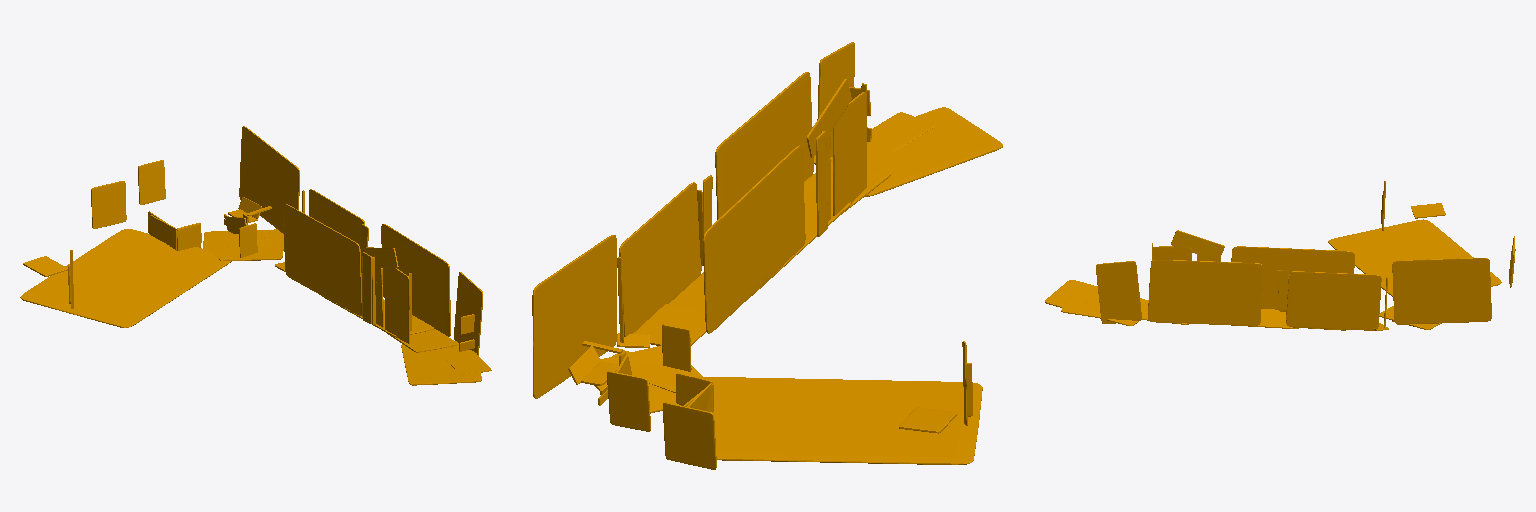
The robot description file, URDF, robot "scene":
<?xml version='1.0' encoding='utf-8'?>
<robot name="scene"><link name="scene_link"><visual><origin xyz="0.000000 0.000000 0.000000" rpy="0.000000 -0.000000 0.000000" /><geometry><mesh filename="part_000.obj" /></geometry></visual><collision><origin xyz="0.000000 0.000000 0.000000" rpy="0.000000 -0.000000 0.000000" /><geometry><mesh filename="part_000.obj" /></geometry></collision><visual><origin xyz="0.000000 0.000000 0.000000" rpy="0.000000 -0.000000 0.000000" /><geometry><mesh filename="part_001.obj" /></geometry></visual><collision><origin xyz="0.000000 0.000000 0.000000" rpy="0.000000 -0.000000 0.000000" /><geometry><mesh filename="part_001.obj" /></geometry></collision><visual><origin xyz="0.000000 0.000000 0.000000" rpy="0.000000 -0.000000 0.000000" /><geometry><mesh filename="part_002.obj" /></geometry></visual><collision><origin xyz="0.000000 0.000000 0.000000" rpy="0.000000 -0.000000 0.000000" /><geometry><mesh filename="part_002.obj" /></geometry></collision><visual><origin xyz="0.000000 0.000000 0.000000" rpy="0.000000 -0.000000 0.000000" /><geometry><mesh filename="part_003.obj" /></geometry></visual><collision><origin xyz="0.000000 0.000000 0.000000" rpy="0.000000 -0.000000 0.000000" /><geometry><mesh filename="part_003.obj" /></geometry></collision><visual><origin xyz="0.000000 0.000000 0.000000" rpy="0.000000 -0.000000 0.000000" /><geometry><mesh filename="part_004.obj" /></geometry></visual><collision><origin xyz="0.000000 0.000000 0.000000" rpy="0.000000 -0.000000 0.000000" /><geometry><mesh filename="part_004.obj" /></geometry></collision><visual><origin xyz="0.000000 0.000000 0.000000" rpy="0.000000 -0.000000 0.000000" /><geometry><mesh filename="part_005.obj" /></geometry></visual><collision><origin xyz="0.000000 0.000000 0.000000" rpy="0.000000 -0.000000 0.000000" /><geometry><mesh filename="part_005.obj" /></geometry></collision><visual><origin xyz="0.000000 0.000000 0.000000" rpy="0.000000 -0.000000 0.000000" /><geometry><mesh filename="part_006.obj" /></geometry></visual><collision><origin xyz="0.000000 0.000000 0.000000" rpy="0.000000 -0.000000 0.000000" /><geometry><mesh filename="part_006.obj" /></geometry></collision><visual><origin xyz="0.000000 0.000000 0.000000" rpy="0.000000 -0.000000 0.000000" /><geometry><mesh filename="part_007.obj" /></geometry></visual><collision><origin xyz="0.000000 0.000000 0.000000" rpy="0.000000 -0.000000 0.000000" /><geometry><mesh filename="part_007.obj" /></geometry></collision><visual><origin xyz="0.000000 0.000000 0.000000" rpy="0.000000 -0.000000 0.000000" /><geometry><mesh filename="part_008.obj" /></geometry></visual><collision><origin xyz="0.000000 0.000000 0.000000" rpy="0.000000 -0.000000 0.000000" /><geometry><mesh filename="part_008.obj" /></geometry></collision><visual><origin xyz="0.000000 0.000000 0.000000" rpy="0.000000 -0.000000 0.000000" /><geometry><mesh filename="part_009.obj" /></geometry></visual><collision><origin xyz="0.000000 0.000000 0.000000" rpy="0.000000 -0.000000 0.000000" /><geometry><mesh filename="part_009.obj" /></geometry></collision><visual><origin xyz="0.000000 0.000000 0.000000" rpy="0.000000 -0.000000 0.000000" /><geometry><mesh filename="part_010.obj" /></geometry></visual><collision><origin xyz="0.000000 0.000000 0.000000" rpy="0.000000 -0.000000 0.000000" /><geometry><mesh filename="part_010.obj" /></geometry></collision><visual><origin xyz="0.000000 0.000000 0.000000" rpy="0.000000 -0.000000 0.000000" /><geometry><mesh filename="part_011.obj" /></geometry></visual><collision><origin xyz="0.000000 0.000000 0.000000" rpy="0.000000 -0.000000 0.000000" /><geometry><mesh filename="part_011.obj" /></geometry></collision><visual><origin xyz="0.000000 0.000000 0.000000" rpy="0.000000 -0.000000 0.000000" /><geometry><mesh filename="part_012.obj" /></geometry></visual><collision><origin xyz="0.000000 0.000000 0.000000" rpy="0.000000 -0.000000 0.000000" /><geometry><mesh filename="part_012.obj" /></geometry></collision><visual><origin xyz="0.000000 0.000000 0.000000" rpy="0.000000 -0.000000 0.000000" /><geometry><mesh filename="part_013.obj" /></geometry></visual><collision><origin xyz="0.000000 0.000000 0.000000" rpy="0.000000 -0.000000 0.000000" /><geometry><mesh filename="part_013.obj" /></geometry></collision><visual><origin xyz="0.000000 0.000000 0.000000" rpy="0.000000 -0.000000 0.000000" /><geometry><mesh filename="part_014.obj" /></geometry></visual><collision><origin xyz="0.000000 0.000000 0.000000" rpy="0.000000 -0.000000 0.000000" /><geometry><mesh filename="part_014.obj" /></geometry></collision><visual><origin xyz="0.000000 0.000000 0.000000" rpy="0.000000 -0.000000 0.000000" /><geometry><mesh filename="part_015.obj" /></geometry></visual><collision><origin xyz="0.000000 0.000000 0.000000" rpy="0.000000 -0.000000 0.000000" /><geometry><mesh filename="part_015.obj" /></geometry></collision><visual><origin xyz="0.000000 0.000000 0.000000" rpy="0.000000 -0.000000 0.000000" /><geometry><mesh filename="part_016.obj" /></geometry></visual><collision><origin xyz="0.000000 0.000000 0.000000" rpy="0.000000 -0.000000 0.000000" /><geometry><mesh filename="part_016.obj" /></geometry></collision><visual><origin xyz="0.000000 0.000000 0.000000" rpy="0.000000 -0.000000 0.000000" /><geometry><mesh filename="part_017.obj" /></geometry></visual><collision><origin xyz="0.000000 0.000000 0.000000" rpy="0.000000 -0.000000 0.000000" /><geometry><mesh filename="part_017.obj" /></geometry></collision><visual><origin xyz="0.000000 0.000000 0.000000" rpy="0.000000 -0.000000 0.000000" /><geometry><mesh filename="part_018.obj" /></geometry></visual><collision><origin xyz="0.000000 0.000000 0.000000" rpy="0.000000 -0.000000 0.000000" /><geometry><mesh filename="part_018.obj" /></geometry></collision><visual><origin xyz="0.000000 0.000000 0.000000" rpy="0.000000 -0.000000 0.000000" /><geometry><mesh filename="part_019.obj" /></geometry></visual><collision><origin xyz="0.000000 0.000000 0.000000" rpy="0.000000 -0.000000 0.000000" /><geometry><mesh filename="part_019.obj" /></geometry></collision><visual><origin xyz="0.000000 0.000000 0.000000" rpy="0.000000 -0.000000 0.000000" /><geometry><mesh filename="part_020.obj" /></geometry></visual><collision><origin xyz="0.000000 0.000000 0.000000" rpy="0.000000 -0.000000 0.000000" /><geometry><mesh filename="part_020.obj" /></geometry></collision><visual><origin xyz="0.000000 0.000000 0.000000" rpy="0.000000 -0.000000 0.000000" /><geometry><mesh filename="part_021.obj" /></geometry></visual><collision><origin xyz="0.000000 0.000000 0.000000" rpy="0.000000 -0.000000 0.000000" /><geometry><mesh filename="part_021.obj" /></geometry></collision><visual><origin xyz="0.000000 0.000000 0.000000" rpy="0.000000 -0.000000 0.000000" /><geometry><mesh filename="part_022.obj" /></geometry></visual><collision><origin xyz="0.000000 0.000000 0.000000" rpy="0.000000 -0.000000 0.000000" /><geometry><mesh filename="part_022.obj" /></geometry></collision><visual><origin xyz="0.000000 0.000000 0.000000" rpy="0.000000 -0.000000 0.000000" /><geometry><mesh filename="part_023.obj" /></geometry></visual><collision><origin xyz="0.000000 0.000000 0.000000" rpy="0.000000 -0.000000 0.000000" /><geometry><mesh filename="part_023.obj" /></geometry></collision><visual><origin xyz="0.000000 0.000000 0.000000" rpy="0.000000 -0.000000 0.000000" /><geometry><mesh filename="part_024.obj" /></geometry></visual><collision><origin xyz="0.000000 0.000000 0.000000" rpy="0.000000 -0.000000 0.000000" /><geometry><mesh filename="part_024.obj" /></geometry></collision><visual><origin xyz="0.000000 0.000000 0.000000" rpy="0.000000 -0.000000 0.000000" /><geometry><mesh filename="part_025.obj" /></geometry></visual><collision><origin xyz="0.000000 0.000000 0.000000" rpy="0.000000 -0.000000 0.000000" /><geometry><mesh filename="part_025.obj" /></geometry></collision><visual><origin xyz="0.000000 0.000000 0.000000" rpy="0.000000 -0.000000 0.000000" /><geometry><mesh filename="part_026.obj" /></geometry></visual><collision><origin xyz="0.000000 0.000000 0.000000" rpy="0.000000 -0.000000 0.000000" /><geometry><mesh filename="part_026.obj" /></geometry></collision><visual><origin xyz="0.000000 0.000000 0.000000" rpy="0.000000 -0.000000 0.000000" /><geometry><mesh filename="part_027.obj" /></geometry></visual><collision><origin xyz="0.000000 0.000000 0.000000" rpy="0.000000 -0.000000 0.000000" /><geometry><mesh filename="part_027.obj" /></geometry></collision><visual><origin xyz="0.000000 0.000000 0.000000" rpy="0.000000 -0.000000 0.000000" /><geometry><mesh filename="part_028.obj" /></geometry></visual><collision><origin xyz="0.000000 0.000000 0.000000" rpy="0.000000 -0.000000 0.000000" /><geometry><mesh filename="part_028.obj" /></geometry></collision><visual><origin xyz="0.000000 0.000000 0.000000" rpy="0.000000 -0.000000 0.000000" /><geometry><mesh filename="part_029.obj" /></geometry></visual><collision><origin xyz="0.000000 0.000000 0.000000" rpy="0.000000 -0.000000 0.000000" /><geometry><mesh filename="part_029.obj" /></geometry></collision><visual><origin xyz="0.000000 0.000000 0.000000" rpy="0.000000 -0.000000 0.000000" /><geometry><mesh filename="part_030.obj" /></geometry></visual><collision><origin xyz="0.000000 0.000000 0.000000" rpy="0.000000 -0.000000 0.000000" /><geometry><mesh filename="part_030.obj" /></geometry></collision><visual><origin xyz="0.000000 0.000000 0.000000" rpy="0.000000 -0.000000 0.000000" /><geometry><mesh filename="part_031.obj" /></geometry></visual><collision><origin xyz="0.000000 0.000000 0.000000" rpy="0.000000 -0.000000 0.000000" /><geometry><mesh filename="part_031.obj" /></geometry></collision><visual><origin xyz="0.000000 0.000000 0.000000" rpy="0.000000 -0.000000 0.000000" /><geometry><mesh filename="part_032.obj" /></geometry></visual><collision><origin xyz="0.000000 0.000000 0.000000" rpy="0.000000 -0.000000 0.000000" /><geometry><mesh filename="part_032.obj" /></geometry></collision><visual><origin xyz="0.000000 0.000000 0.000000" rpy="0.000000 -0.000000 0.000000" /><geometry><mesh filename="part_033.obj" /></geometry></visual><collision><origin xyz="0.000000 0.000000 0.000000" rpy="0.000000 -0.000000 0.000000" /><geometry><mesh filename="part_033.obj" /></geometry></collision><visual><origin xyz="0.000000 0.000000 0.000000" rpy="0.000000 -0.000000 0.000000" /><geometry><mesh filename="part_034.obj" /></geometry></visual><collision><origin xyz="0.000000 0.000000 0.000000" rpy="0.000000 -0.000000 0.000000" /><geometry><mesh filename="part_034.obj" /></geometry></collision><visual><origin xyz="0.000000 0.000000 0.000000" rpy="0.000000 -0.000000 0.000000" /><geometry><mesh filename="part_035.obj" /></geometry></visual><collision><origin xyz="0.000000 0.000000 0.000000" rpy="0.000000 -0.000000 0.000000" /><geometry><mesh filename="part_035.obj" /></geometry></collision><visual><origin xyz="0.000000 0.000000 0.000000" rpy="0.000000 -0.000000 0.000000" /><geometry><mesh filename="part_036.obj" /></geometry></visual><collision><origin xyz="0.000000 0.000000 0.000000" rpy="0.000000 -0.000000 0.000000" /><geometry><mesh filename="part_036.obj" /></geometry></collision><visual><origin xyz="0.000000 0.000000 0.000000" rpy="0.000000 -0.000000 0.000000" /><geometry><mesh filename="part_037.obj" /></geometry></visual><collision><origin xyz="0.000000 0.000000 0.000000" rpy="0.000000 -0.000000 0.000000" /><geometry><mesh filename="part_037.obj" /></geometry></collision><visual><origin xyz="0.000000 0.000000 0.000000" rpy="0.000000 -0.000000 0.000000" /><geometry><mesh filename="part_038.obj" /></geometry></visual><collision><origin xyz="0.000000 0.000000 0.000000" rpy="0.000000 -0.000000 0.000000" /><geometry><mesh filename="part_038.obj" /></geometry></collision><visual><origin xyz="0.000000 0.000000 0.000000" rpy="0.000000 -0.000000 0.000000" /><geometry><mesh filename="part_039.obj" /></geometry></visual><collision><origin xyz="0.000000 0.000000 0.000000" rpy="0.000000 -0.000000 0.000000" /><geometry><mesh filename="part_039.obj" /></geometry></collision><visual><origin xyz="0.000000 0.000000 0.000000" rpy="0.000000 -0.000000 0.000000" /><geometry><mesh filename="part_040.obj" /></geometry></visual><collision><origin xyz="0.000000 0.000000 0.000000" rpy="0.000000 -0.000000 0.000000" /><geometry><mesh filename="part_040.obj" /></geometry></collision><visual><origin xyz="0.000000 0.000000 0.000000" rpy="0.000000 -0.000000 0.000000" /><geometry><mesh filename="part_041.obj" /></geometry></visual><collision><origin xyz="0.000000 0.000000 0.000000" rpy="0.000000 -0.000000 0.000000" /><geometry><mesh filename="part_041.obj" /></geometry></collision><visual><origin xyz="0.000000 0.000000 0.000000" rpy="0.000000 -0.000000 0.000000" /><geometry><mesh filename="part_042.obj" /></geometry></visual><collision><origin xyz="0.000000 0.000000 0.000000" rpy="0.000000 -0.000000 0.000000" /><geometry><mesh filename="part_042.obj" /></geometry></collision><visual><origin xyz="0.000000 0.000000 0.000000" rpy="0.000000 -0.000000 0.000000" /><geometry><mesh filename="part_043.obj" /></geometry></visual><collision><origin xyz="0.000000 0.000000 0.000000" rpy="0.000000 -0.000000 0.000000" /><geometry><mesh filename="part_043.obj" /></geometry></collision><visual><origin xyz="0.000000 0.000000 0.000000" rpy="0.000000 -0.000000 0.000000" /><geometry><mesh filename="part_044.obj" /></geometry></visual><collision><origin xyz="0.000000 0.000000 0.000000" rpy="0.000000 -0.000000 0.000000" /><geometry><mesh filename="part_044.obj" /></geometry></collision><visual><origin xyz="0.000000 0.000000 0.000000" rpy="0.000000 -0.000000 0.000000" /><geometry><mesh filename="part_045.obj" /></geometry></visual><collision><origin xyz="0.000000 0.000000 0.000000" rpy="0.000000 -0.000000 0.000000" /><geometry><mesh filename="part_045.obj" /></geometry></collision><visual><origin xyz="0.000000 0.000000 0.000000" rpy="0.000000 -0.000000 0.000000" /><geometry><mesh filename="part_046.obj" /></geometry></visual><collision><origin xyz="0.000000 0.000000 0.000000" rpy="0.000000 -0.000000 0.000000" /><geometry><mesh filename="part_046.obj" /></geometry></collision><visual><origin xyz="0.000000 0.000000 0.000000" rpy="0.000000 -0.000000 0.000000" /><geometry><mesh filename="part_047.obj" /></geometry></visual><collision><origin xyz="0.000000 0.000000 0.000000" rpy="0.000000 -0.000000 0.000000" /><geometry><mesh filename="part_047.obj" /></geometry></collision><visual><origin xyz="0.000000 0.000000 0.000000" rpy="0.000000 -0.000000 0.000000" /><geometry><mesh filename="part_048.obj" /></geometry></visual><collision><origin xyz="0.000000 0.000000 0.000000" rpy="0.000000 -0.000000 0.000000" /><geometry><mesh filename="part_048.obj" /></geometry></collision></link></robot>

--- What the picture shows (computed from the rendered views, not written in the file) ---
3 views of the same robot in one strip: view 1: azimuth 30°, elevation 25°; view 2: azimuth 150°, elevation 25°; view 3: azimuth 270°, elevation 25° (orthographic).
Robot: scene — 1 links, 0 joints (none); root link scene_link; default pose: every joint at zero.
Links seen in each view (by area): view 1: scene_link; view 2: scene_link; view 3: scene_link.
Link boxes in pixels (box(x1,y1,x2,y2)): scene_link: box(20, 126, 491, 385); scene_link: box(532, 42, 1002, 469); scene_link: box(1045, 181, 1515, 330).
Size in the robot's own frame: 8.16 by 13.77 by 2.84 metres.
49 mesh visuals loaded from 49 distinct referenced files (49 OBJ).